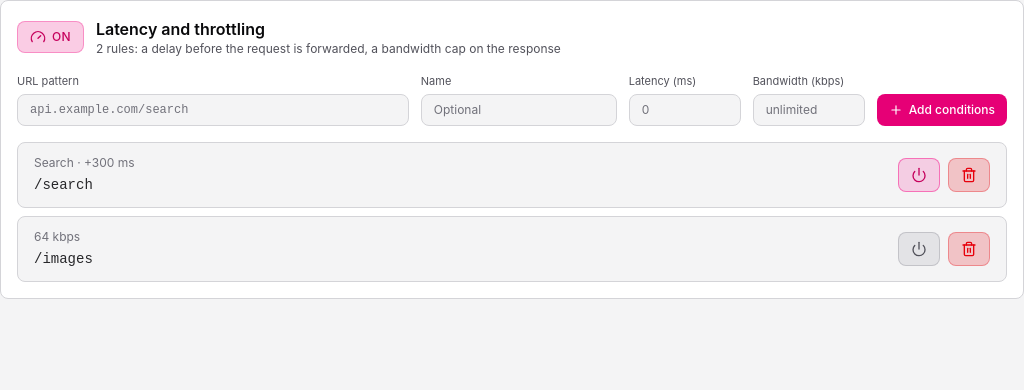
ThrottleRules › validates the form and adds a rule
Expected: the text "/search" is shown, x1=34 y1=176 x2=93 y2=192
Click the button "Add conditions": point(942, 110) x1=877 y1=94 x2=1007 y2=126
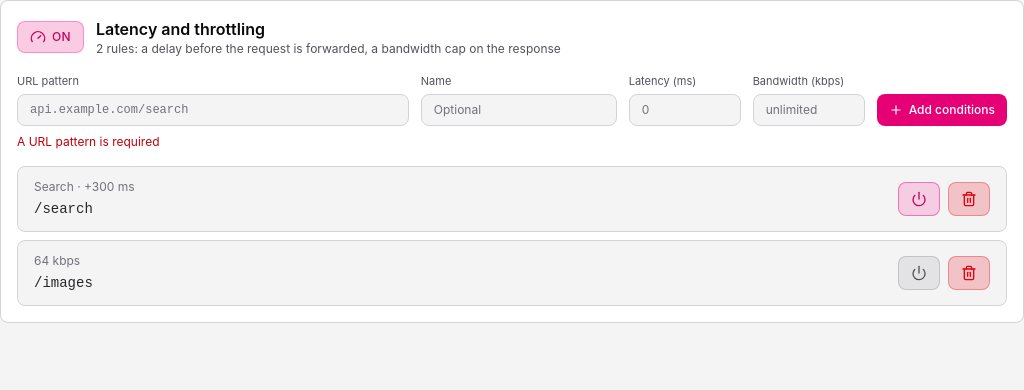
Expected: the text "A URL pattern is required" is shown, x1=17 y1=134 x2=160 y2=148
In the field labelled "URL pattern": point(213, 110) x1=17 y1=94 x2=409 y2=126, type "/api"
Click the button "Add conditions": point(942, 110) x1=877 y1=94 x2=1007 y2=126
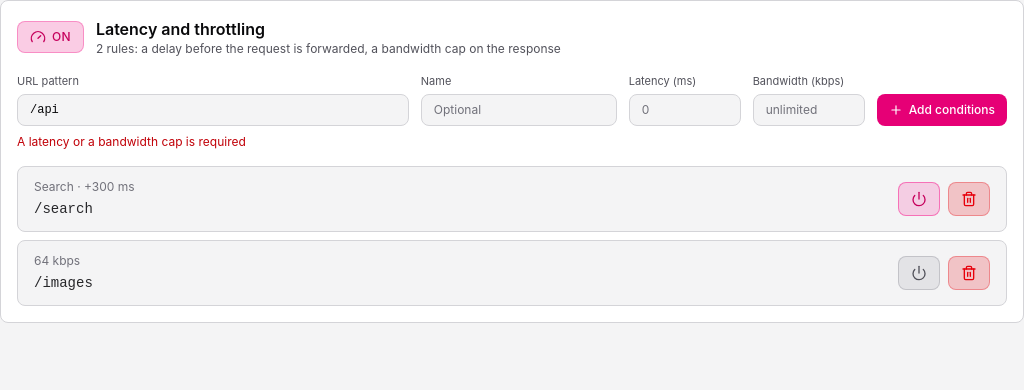
Expected: the text "A latency or a bandwidth cap is required" is shown, x1=17 y1=134 x2=246 y2=148
In the field labelled "Name": point(519, 110) x1=421 y1=94 x2=617 y2=126, type "Slow API"
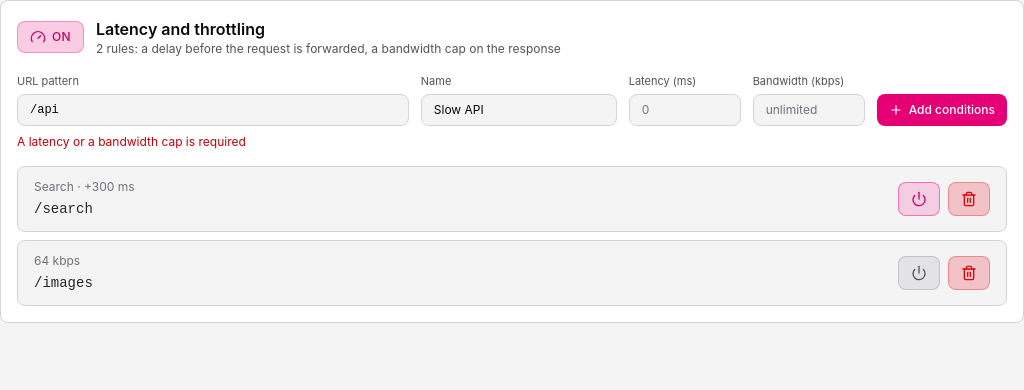
In the number field labelled "Latency (ms)": point(685, 110) x1=629 y1=94 x2=741 y2=126, type "500"
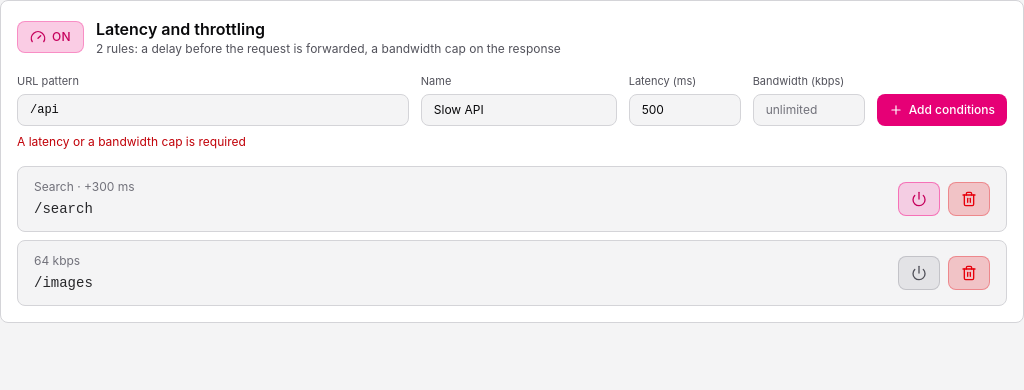
In the number field labelled "Bandwidth (kbps)": point(809, 110) x1=753 y1=94 x2=865 y2=126, type "32"
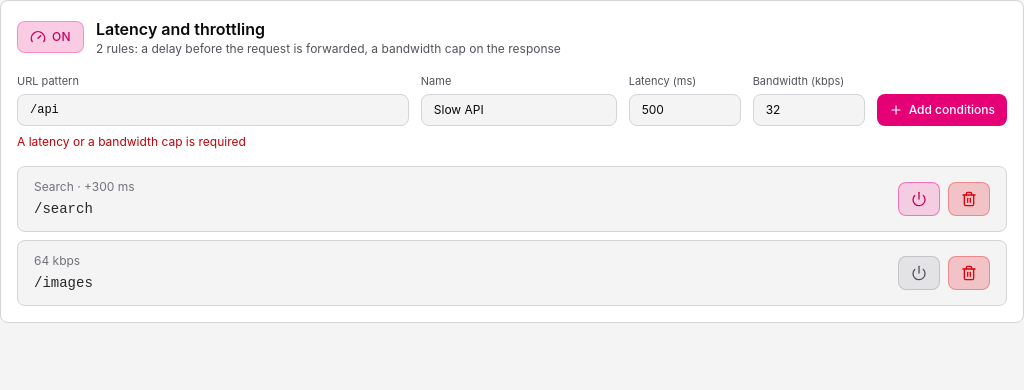
Click the button "Add conditions": point(942, 110) x1=877 y1=94 x2=1007 y2=126
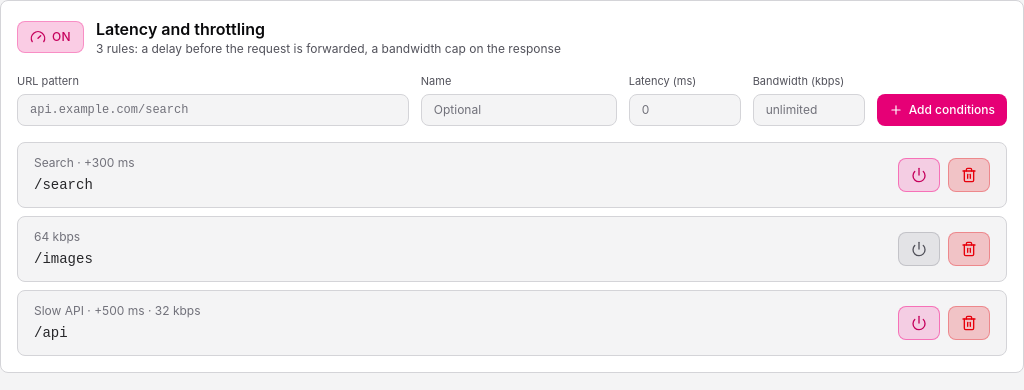
Expected: the text "/api" is shown, x1=34 y1=324 x2=68 y2=340
Expected: the field labelled "URL pattern" is empty, x1=17 y1=94 x2=409 y2=126
